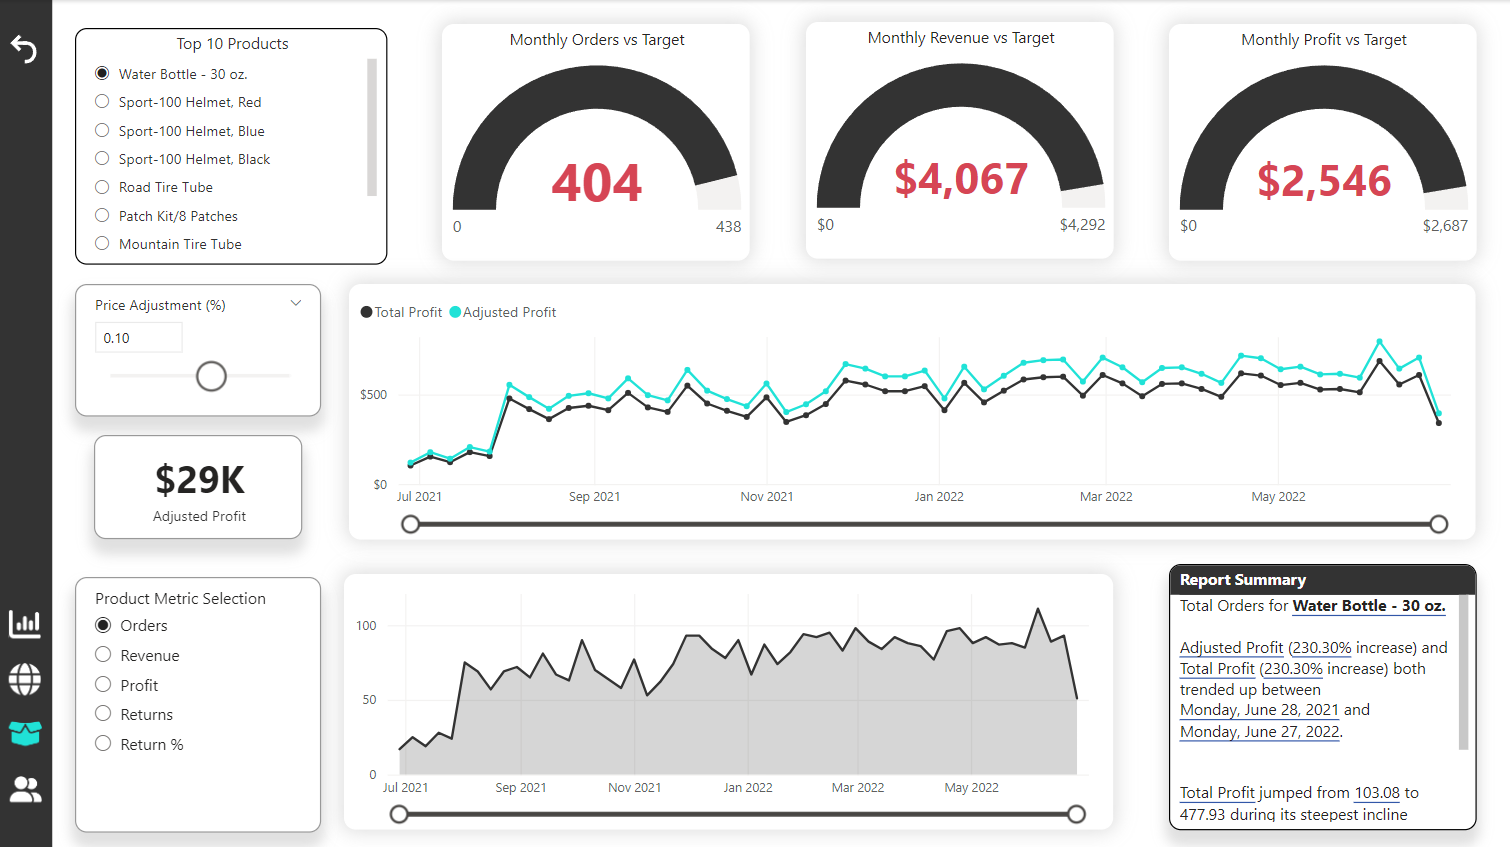

What the dashboard file says about the page in this screenshot:
{"tool":"powerbi","page":{"name":"Product Detail","canvas":[1280,720],"ordinal":2},"visuals":[{"type":"shape","box":[0,0,45,720],"z":0},{"type":"gauge","title":"Monthly Orders vs Target","fields":{"Y":["Measure Table.Total Orders"],"MaxValue":["Measure Table.Target Order"]},"box":[374.1,20.1,260.1,200],"z":1000},{"type":"actionButton","box":[4.5,508.1,35.3,39.8],"z":1000,"group":"g1"},{"type":"gauge","title":"Monthly Revenue vs Target","fields":{"Y":["Measure Table.Total Revenue"],"MaxValue":["Measure Table.Target Revenue"]},"box":[681.6,19,260.1,200],"z":2000},{"type":"actionButton","box":[4.5,554.3,35.3,39.8],"z":2000,"group":"g1"},{"type":"gauge","title":"Monthly Profit vs Target","fields":{"Y":["Measure Table.Total Profit"],"MaxValue":["Measure Table.Target Profit"]},"box":[989.1,20.1,260,200],"z":3000},{"type":"actionButton","box":[4.5,647.4,35.2,39.6],"z":3000,"group":"g1"},{"type":"lineChart","title":"Profit Trending","fields":{"Category":["Calendar Lookup.Date Hierarchy.Start of Year","Calendar Lookup.Date Hierarchy.Start of Month","Calendar Lookup.Date Hierarchy.Start of Week","Calendar Lookup.Date Hierarchy.Date"],"Y":["Measure Table.Total Profit","Measure Table.Adjusted Profit"]},"box":[296,240,952,216],"z":4000},{"type":"actionButton","box":[4.1,600.5,36.1,40.5],"z":4000,"group":"g1"},{"type":"areaChart","title":"Returns Trending","fields":{"Y":["Measure Table.Total Orders"],"Category":["Calendar Lookup.Date Hierarchy.Start of Year","Calendar Lookup.Date Hierarchy.Start of Month","Calendar Lookup.Date Hierarchy.Start of Week","Calendar Lookup.Date Hierarchy.Date"]},"box":[291.8,485.2,650.5,216.5],"z":5000},{"type":"group","id":"g1","title":"Navigation Buttons","box":[4.1,508.1,36.1,178.9],"z":6000},{"type":"slicer","fields":{"Values":["Price Adjustment (%).Price Adjustment (%)"]},"box":[64,240,208,112],"z":7000},{"type":"slicer","fields":{"Values":["Product Metric Selection.Product Metric Selection"]},"box":[64,488,208,216],"z":8000},{"type":"textbox","title":"Report Summary","box":[988.9,476.5,259.7,224.7],"z":9000},{"type":"card","fields":{"Values":["Measure Table.Adjusted Profit"]},"box":[80,368,176,88],"z":10000},{"type":"slicer","title":"Top 10 Products","fields":{"Values":["Product Lookup.ProductName"]},"box":[64,24,264,200],"z":11000},{"type":"actionButton","box":[4.5,24.5,36.2,33.5],"z":12000}]}

Visuals, with their boxes on the page's 1280x720 design canvas (x1, y1, x2, y2). These are canvas units, not pixel positions in the 1510x847 screenshot, which may show the page scaled, cropped or inside an application window:
shape: 0, 0, 45, 720
"Monthly Orders vs Target" gauge: 374, 20, 634, 220
actionButton: 4, 508, 40, 548
"Monthly Revenue vs Target" gauge: 682, 19, 942, 219
actionButton: 4, 554, 40, 594
"Monthly Profit vs Target" gauge: 989, 20, 1249, 220
actionButton: 4, 647, 40, 687
"Profit Trending" lineChart: 296, 240, 1248, 456
actionButton: 4, 600, 40, 641
"Returns Trending" areaChart: 292, 485, 942, 702
"Navigation Buttons" group: 4, 508, 40, 687
slicer - Price Adjustment (%).Price Adjustment (%): 64, 240, 272, 352
slicer - Product Metric Selection.Product Metric Selection: 64, 488, 272, 704
"Report Summary" textbox: 989, 476, 1249, 701
card - Measure Table.Adjusted Profit: 80, 368, 256, 456
"Top 10 Products" slicer: 64, 24, 328, 224
actionButton: 4, 24, 41, 58
